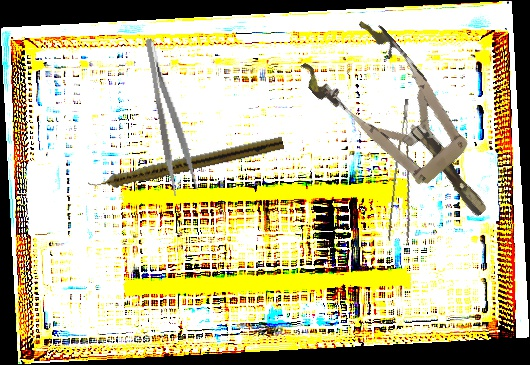Dressing Forceps: (140, 33, 201, 198)
Handpiece: (86, 131, 285, 195)
Speculum: (294, 8, 518, 246)
Tissue Forceps: (380, 98, 433, 245)
